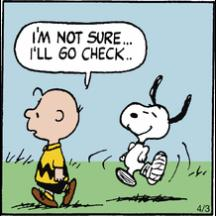charlie: (24, 84, 84, 208)
snoopy: (114, 74, 192, 188)
